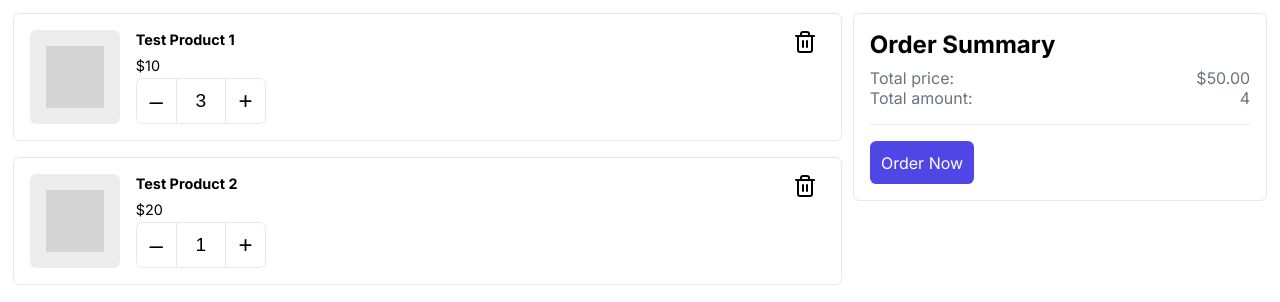
Cart component › should decrement the amount of the product
This screenshot has width=1280, height=302.
Click the button named "Decrease product": [156, 101] box [136,78,177,124]
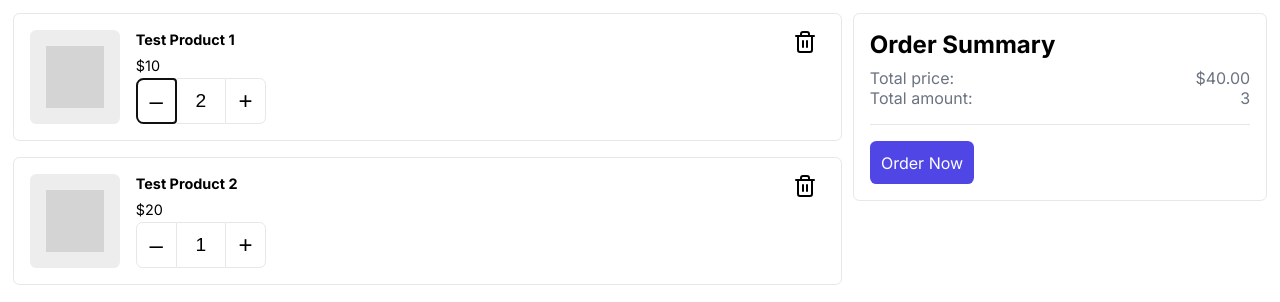
Click the button named "Decrease product": [156, 101] box [136,78,177,124]
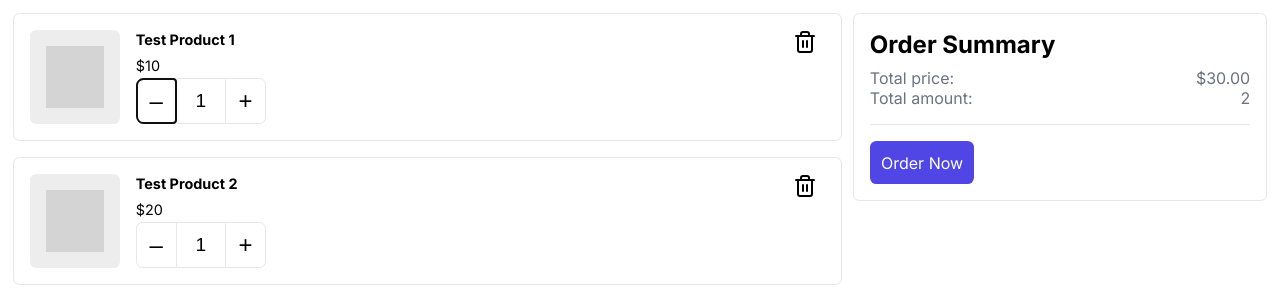
Now the number field below "10" holds "1", box [177,78,225,124]
Now the text "Total price: $30.00" is shown, box [870,68,1250,88]
Now the text "Total amount: 2" is shown, box [870,88,1250,108]
